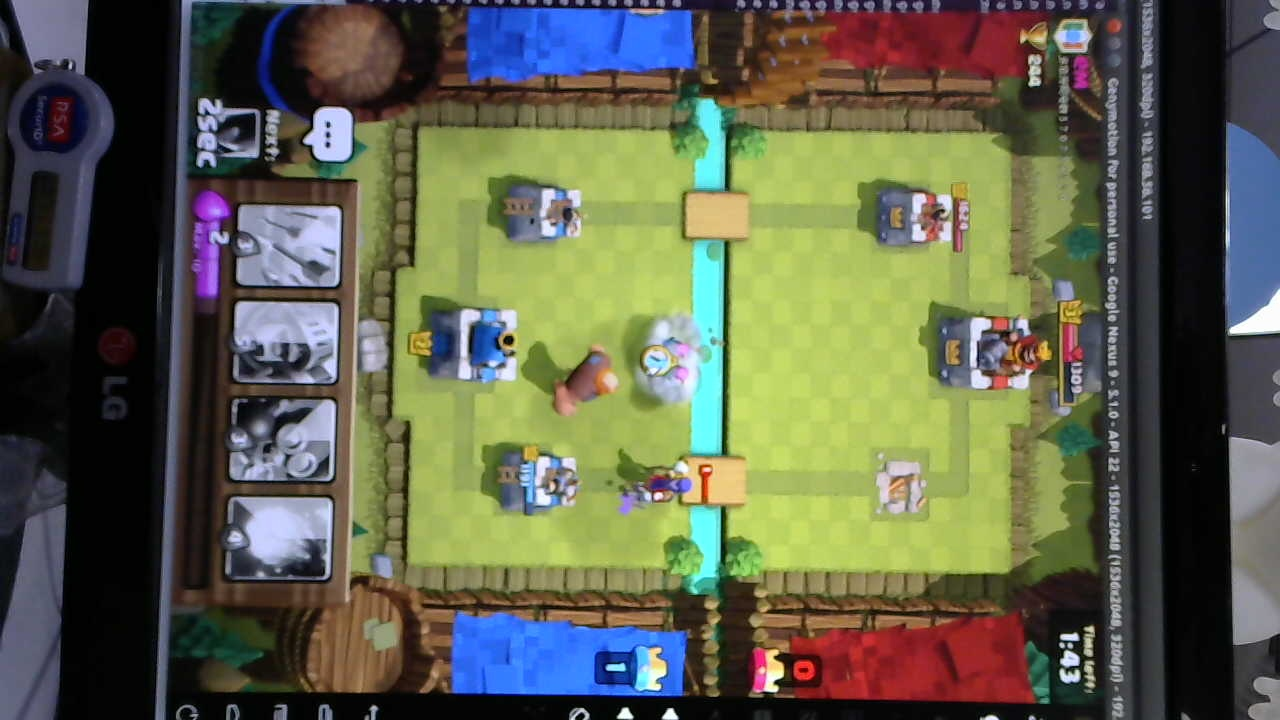archers: (638, 337, 691, 389)
